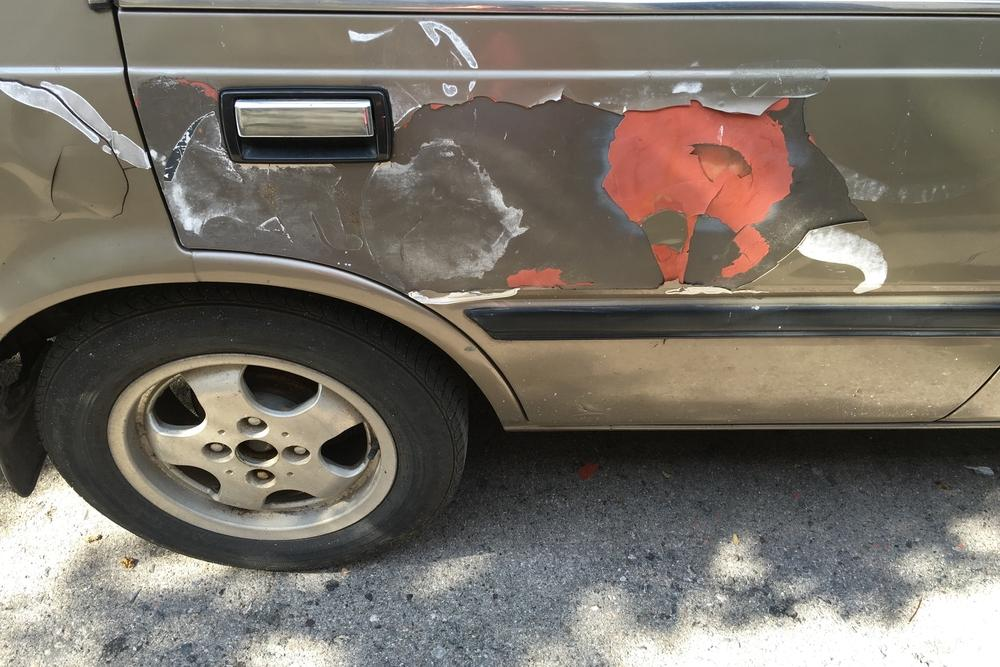crack: (0, 78, 137, 219), (46, 146, 66, 221)
scratch: (129, 75, 902, 299)
